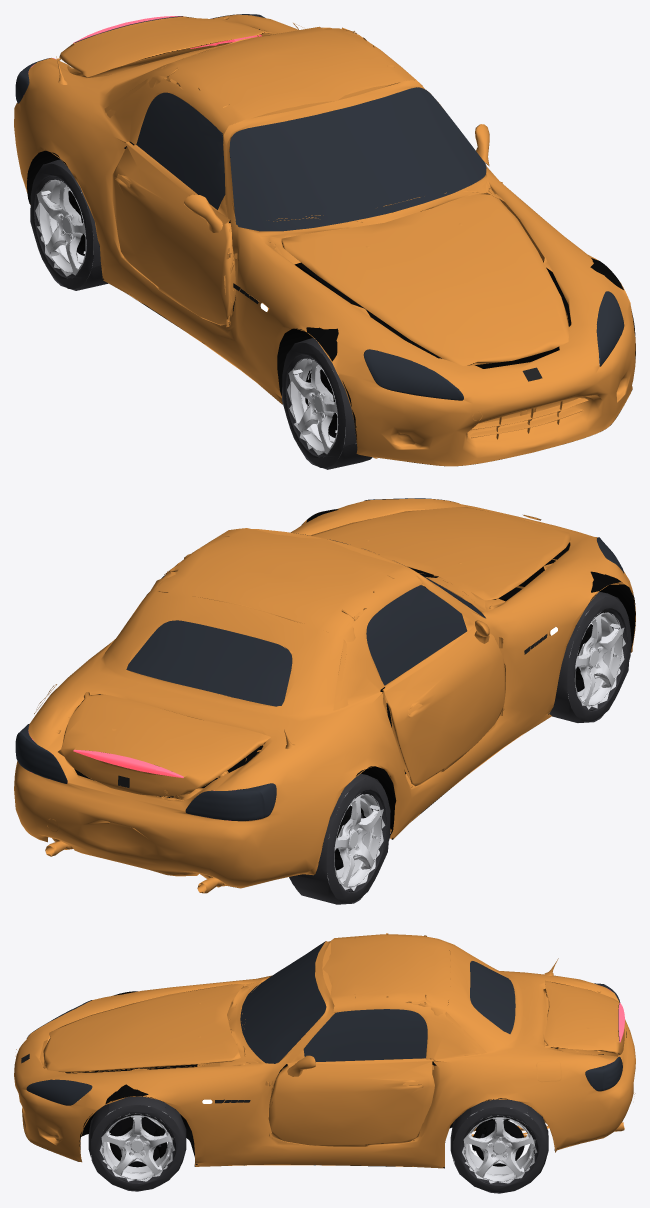
The picture shows the model from 3 angles, top to bottom: view 1: azimuth 30°, elevation 25°; view 2: azimuth 150°, elevation 25°; view 3: azimuth 270°, elevation 25°; orthographic projection. The views are drawn at different scales.
Visible parts, largest first — view 1: h:Engine_Geo_lodA_Engine_Geo_lodA_Honda_S2000TNR0_2001Engine, s2000_wheel_FR.001, s2000_wheel_RR.001; view 2: h:Engine_Geo_lodA_Engine_Geo_lodA_Honda_S2000TNR0_2001Engine, s2000_wheel_RR.001, s2000_wheel_FR.001; view 3: h:Engine_Geo_lodA_Engine_Geo_lodA_Honda_S2000TNR0_2001Engine, s2000_wheel_FL.001, s2000_wheel_RL.001.
Part boxes in pixels (<box>): h:Engine_Geo_lodA_Engine_Geo_lodA_Honda_S2000TNR0_2001Engine: <box>14,14,635,466</box>; s2000_wheel_FR.001: <box>282,338,372,469</box>; s2000_wheel_RR.001: <box>30,159,108,290</box>; h:Engine_Geo_lodA_Engine_Geo_lodA_Honda_S2000TNR0_2001Engine: <box>14,498,635,893</box>; s2000_wheel_RR.001: <box>289,773,390,904</box>; s2000_wheel_FR.001: <box>549,591,631,722</box>; h:Engine_Geo_lodA_Engine_Geo_lodA_Honda_S2000TNR0_2001Engine: <box>14,933,635,1168</box>; s2000_wheel_FL.001: <box>88,1096,186,1191</box>; s2000_wheel_RL.001: <box>450,1099,548,1193</box>.
Size of the model in its own units: 1.72 by 1.31 by 4.1.
